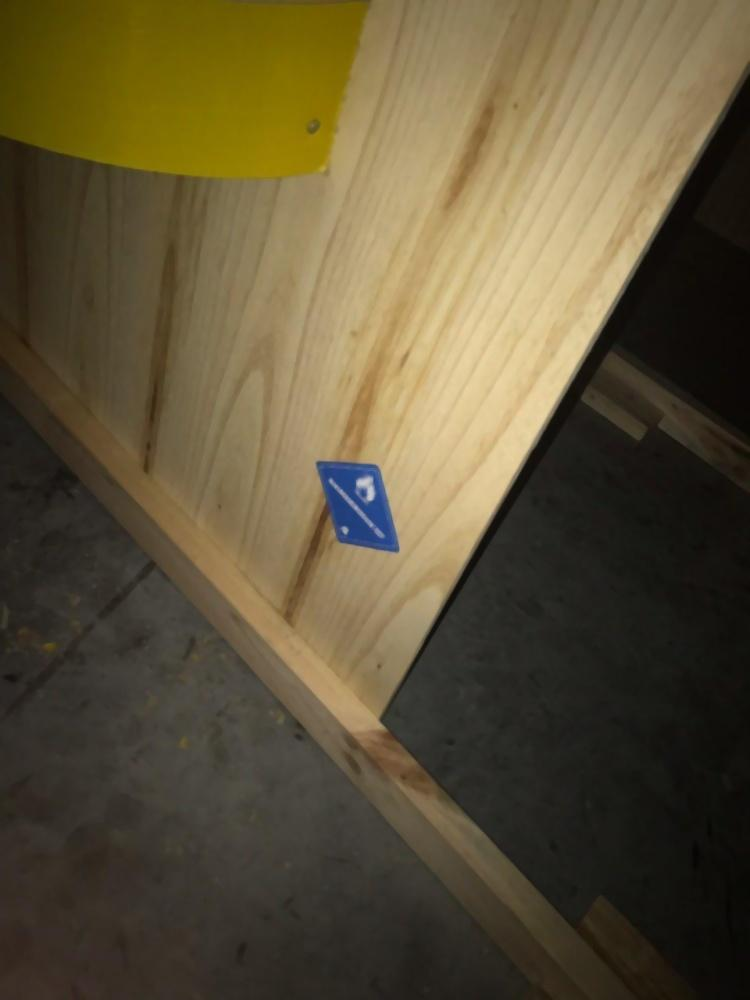dangerous-when-wet: (310, 457, 405, 556)
